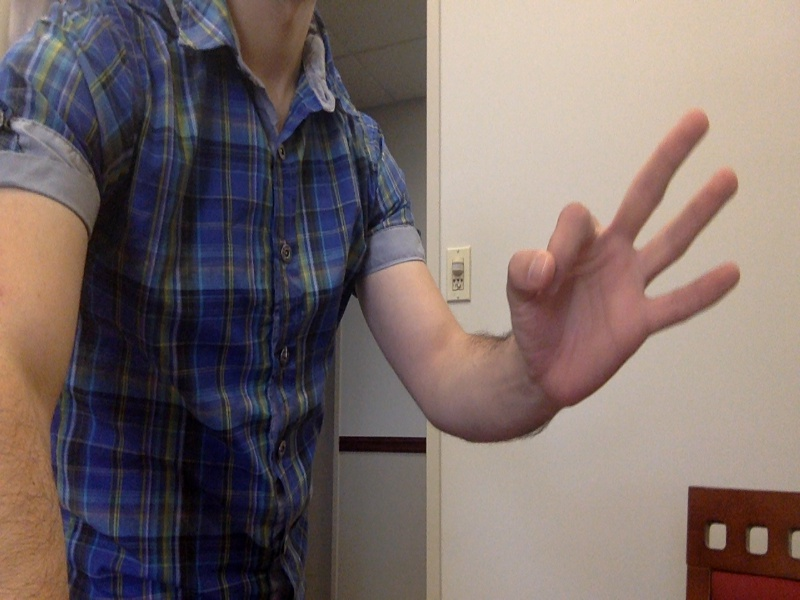3-hand: (508, 109, 744, 406)
